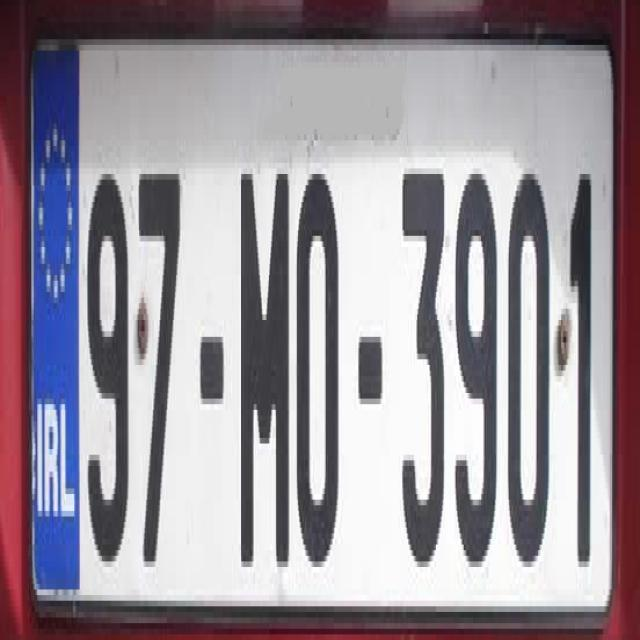EU: (31, 59, 611, 616)
Irlande: (32, 59, 78, 589)
